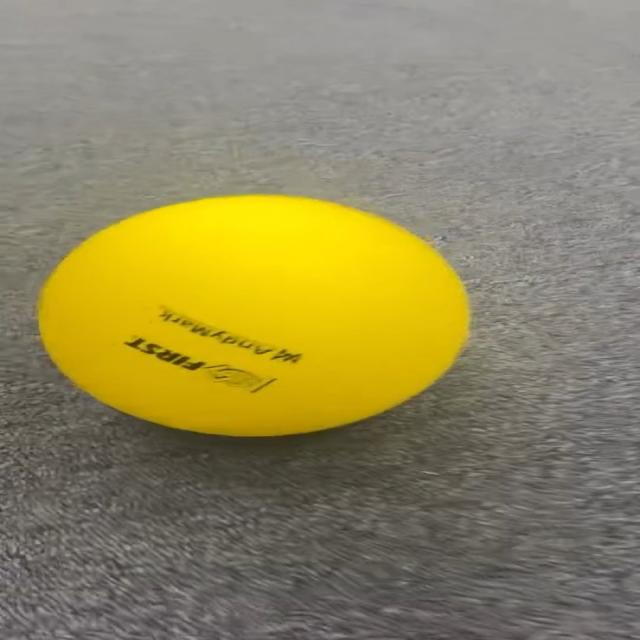Fuels: (39, 197, 468, 434)
